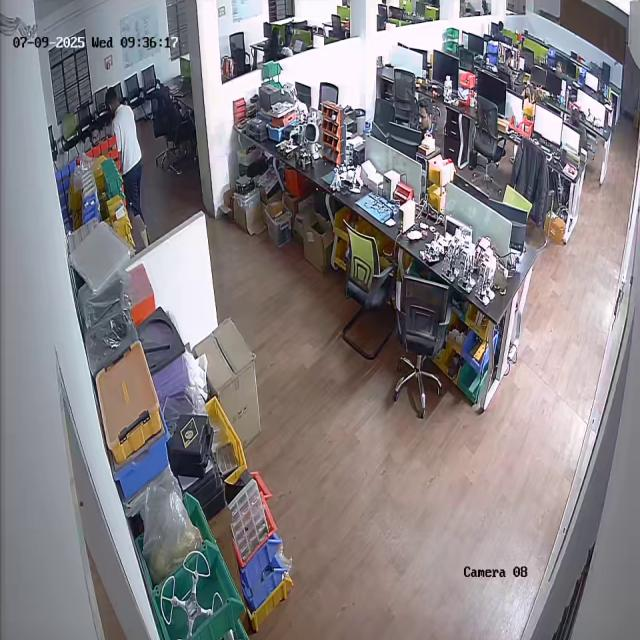person: (105, 86, 141, 229)
